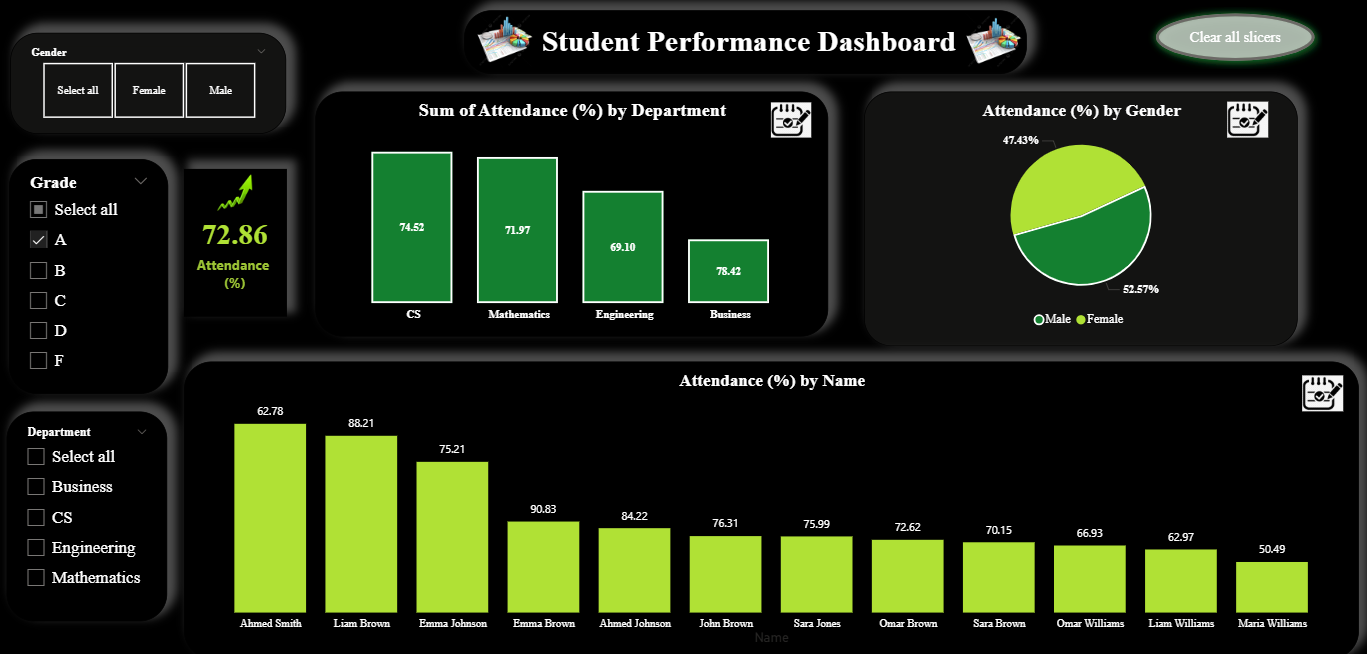

Layout of this report page (visuals, bound fields, positions):
{"tool":"powerbi","page":{"name":"Attendance %","canvas":[1500,720],"ordinal":0},"visuals":[{"type":"textbox","box":[506.5,12.3,614,69.8],"z":0},{"type":"image","box":[514.7,6.4,73.3,76.7],"z":1000},{"type":"image","box":[1047.2,8.8,73.3,76.7],"z":2000},{"type":"slicer","fields":{"Values":["Students performance analysis.Department"]},"box":[8.7,449.3,175.6,229.1],"z":3000},{"type":"slicer","fields":{"Values":["Students performance analysis.Grade"]},"box":[11,174.9,173.3,255.8],"z":4000},{"type":"slicer","fields":{"Values":["Students performance analysis.Gender"]},"box":[12.3,36.8,301.1,110.4],"z":5000},{"type":"pieChart","title":"Attendance (%) by Gender","fields":{"Category":["Students performance analysis.Gender"],"Y":["Students performance analysis.Attendance (%)"]},"box":[943,100.8,472.8,278],"z":6000},{"type":"image","box":[1334,106.3,54.5,50.4],"z":7000},{"type":"columnChart","fields":{"Category":["Students performance analysis.Department"],"Y":["Students performance analysis.Attendance (%)"]},"box":[345.3,101.2,559.3,267.4],"z":8000},{"type":"columnChart","title":"Attendance (%) by Name","fields":{"Category":["Students performance analysis.Name"],"Y":["Students performance analysis.Attendance (%)"]},"box":[201.7,395.2,1280.9,324.3],"z":9000},{"type":"image","box":[836.8,106.8,53.4,50.9],"z":10000},{"type":"image","box":[1415.8,404.7,54.5,50.4],"z":11000},{"type":"card","title":"Attendance (%)","fields":{"Values":["Students performance analysis.Attendance (%)"]},"box":[201.7,185.3,111.7,160.8],"z":12000},{"type":"actionButton","box":[1252.3,6.8,190.8,69.5],"z":13000},{"type":"image","box":[224.8,186.7,64,49.1],"z":14000}]}

Visuals, with their boxes in screenshot pixels (x1, y1, x2, y2), scaled from the page's 1500x720 canvas onto the 1367x654 screenshot:
textbox: BBox(462, 11, 1021, 75)
image: BBox(469, 6, 536, 75)
image: BBox(954, 8, 1021, 78)
slicer - Students performance analysis.Department: BBox(8, 408, 168, 616)
slicer - Students performance analysis.Grade: BBox(10, 159, 168, 391)
slicer - Students performance analysis.Gender: BBox(11, 33, 286, 134)
"Attendance (%) by Gender" pieChart: BBox(859, 92, 1290, 344)
image: BBox(1216, 97, 1265, 142)
columnChart - Students performance analysis.Department x Students performance analysis.Attendance (%): BBox(315, 92, 824, 335)
"Attendance (%) by Name" columnChart: BBox(184, 359, 1351, 653)
image: BBox(763, 97, 811, 143)
image: BBox(1290, 368, 1340, 413)
"Attendance (%)" card: BBox(184, 168, 286, 314)
actionButton: BBox(1141, 6, 1315, 69)
image: BBox(205, 170, 263, 214)
